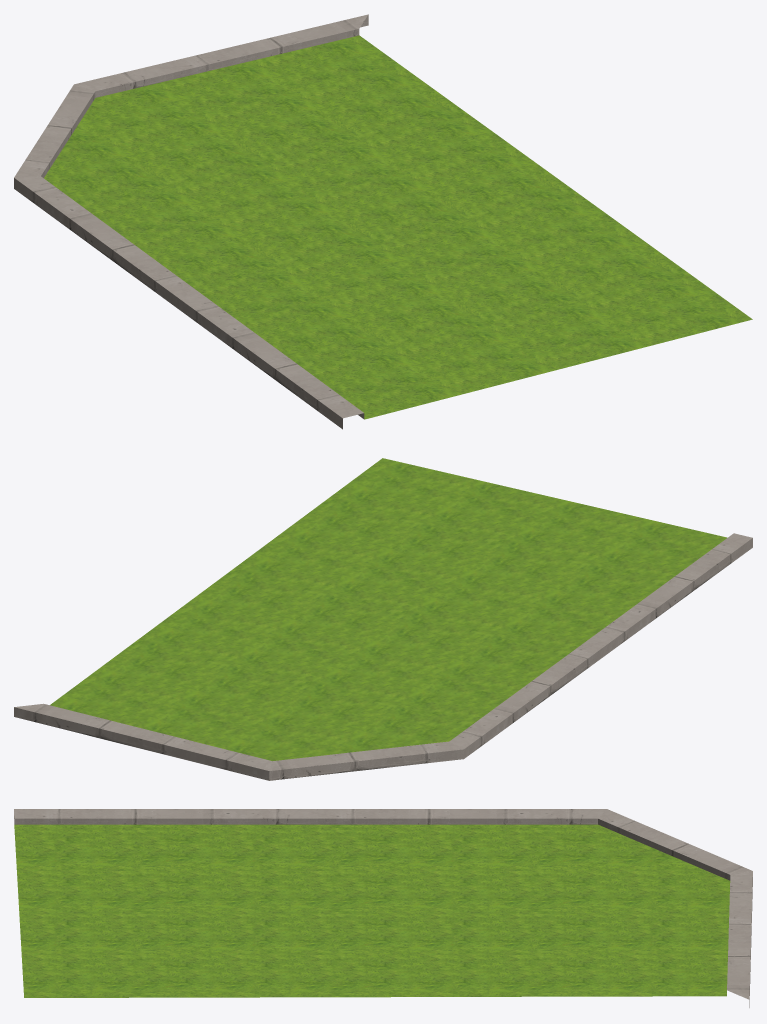
The model's file is GrassTile_D.fbx.
3 views of the same model, one above another, from view 1: azimuth 30°, elevation 25°; view 2: azimuth 150°, elevation 25°; view 3: azimuth 270°, elevation 25° (orthographic). The views are drawn at different scales.
Parts seen in each view (by area): view 1: GrassTile_D; view 2: GrassTile_D; view 3: GrassTile_D.
Part boxes in pixels (x1,y1,x2,y2): GrassTile_D: (14,14,752,429); GrassTile_D: (14,458,752,780); GrassTile_D: (14,809,752,1007).
Size of the model in its own units: 1388 by 33.99 by 2273.
Materials: 2 (2 with a texture image).
